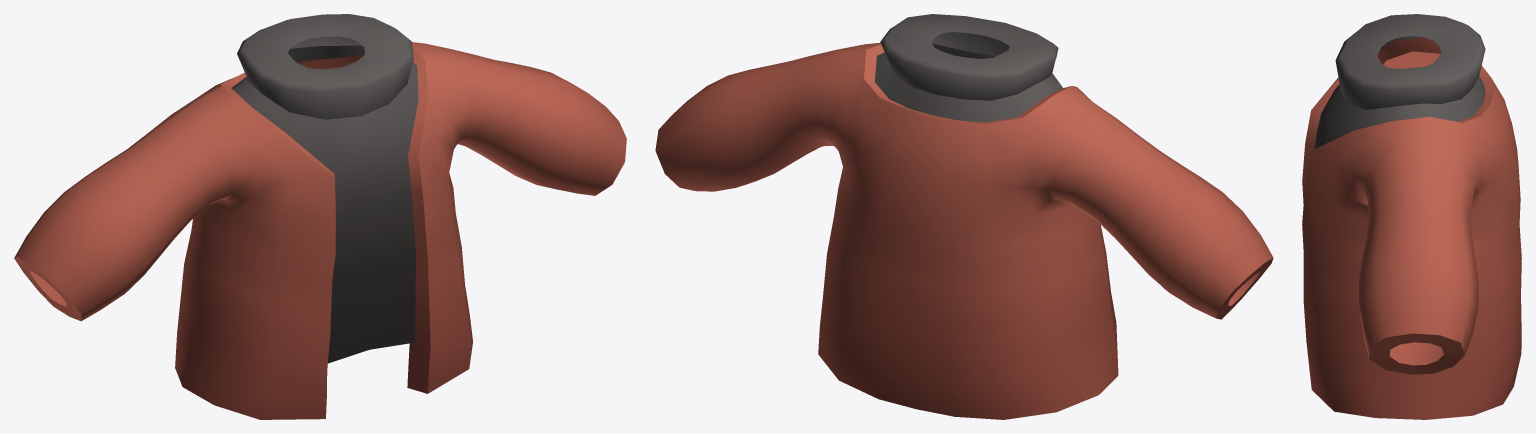
Rendered from Outwear_09.glb.
3 renders of one model, left to right at view 1: azimuth 30°, elevation 25°; view 2: azimuth 150°, elevation 25°; view 3: azimuth 270°, elevation 25°, orthographic. The views are drawn at different scales.
Parts seen in each view (by area): view 1: Outwear_09; view 2: Outwear_09; view 3: Outwear_09.
Part boxes in pixels (x1=…): Outwear_09: x1=14, y1=14, x2=626, y2=419; Outwear_09: x1=655, y1=14, x2=1273, y2=419; Outwear_09: x1=1302, y1=14, x2=1521, y2=419.
Bounding box in the file's own units: 0.63 × 0.3372 × 0.2073.
1 material, 1 textured.
